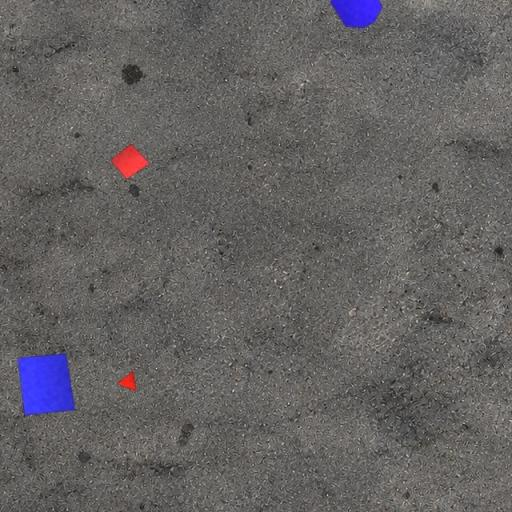BLUE_SQUARE: (18, 353, 76, 416)
RED_SQUARE: (110, 143, 150, 181)
